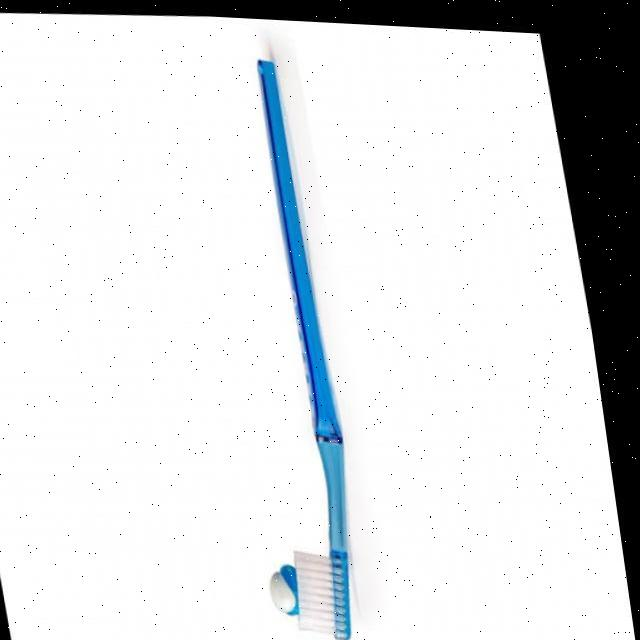toothbrush: (186, 32, 394, 640)
